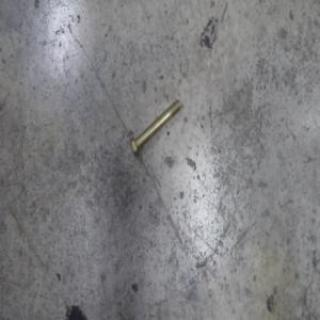Bolttrack_idkeyframe: (129, 96, 182, 158)
